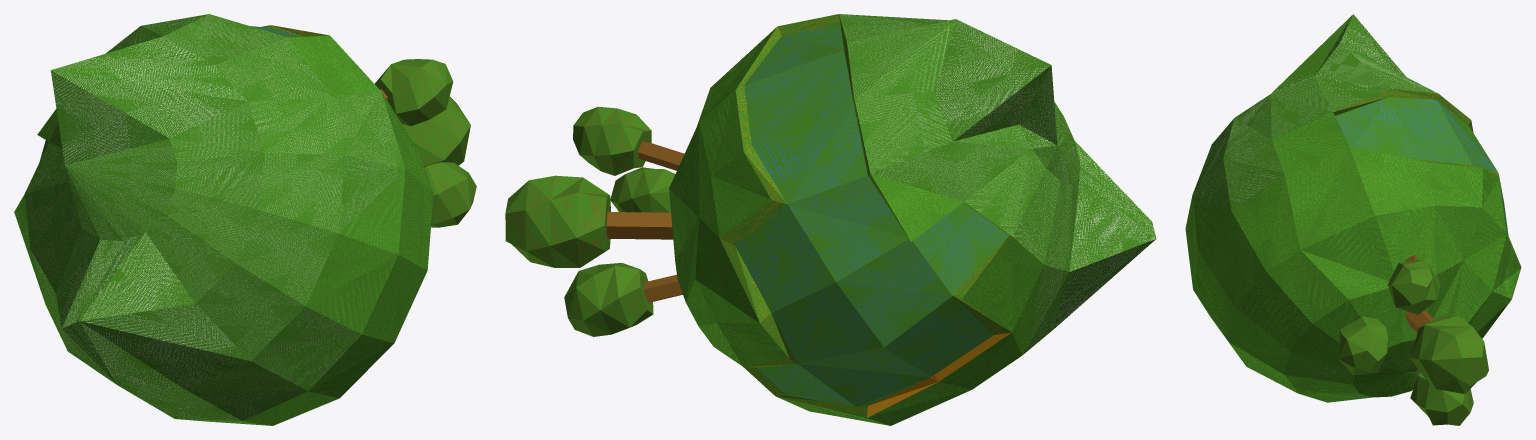
File: earth_poly.dae
The picture shows the model from 3 angles, left to right: view 1: azimuth 30°, elevation 25°; view 2: azimuth 150°, elevation 25°; view 3: azimuth 270°, elevation 25°; orthographic projection. The views are drawn at different scales.
Parts seen in each view (by area): view 1: group_0 (×7); view 2: group_0 (×20); view 3: group_0 (×11).
Boxes of the visible parts, x1,y1,x2,y2 form: group_0 (×7): (14, 14, 476, 425); group_0 (×20): (505, 14, 1156, 425); group_0 (×11): (1185, 14, 1521, 425).
Size of the model in its own units: 876 by 609 by 634.
